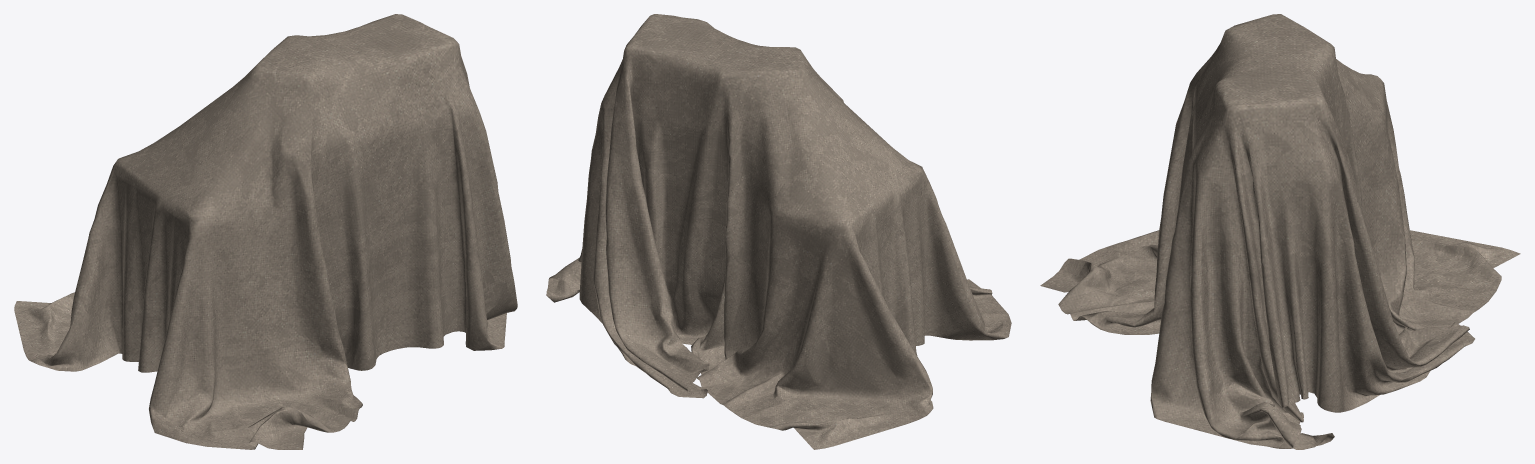
The model's file is Manta2.fbx.
3 renders of one model, left to right at view 1: azimuth 30°, elevation 25°; view 2: azimuth 150°, elevation 25°; view 3: azimuth 270°, elevation 25°, orthographic. The views are drawn at different scales.
Visible parts, largest first — view 1: 03_1; view 2: 03_1; view 3: 03_1.
Boxes of the visible parts, x1,y1,x2,y2 form: 03_1: (14,14,517,449); 03_1: (546,14,1011,449); 03_1: (1040,14,1520,449).
Bounding box in the file's own units: 199 × 124 × 176.
1 material, 1 textured.
